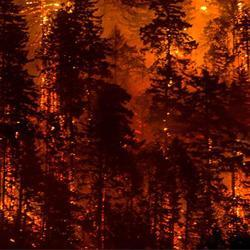fire: (189, 6, 210, 55), (230, 181, 249, 226), (32, 5, 52, 30)
